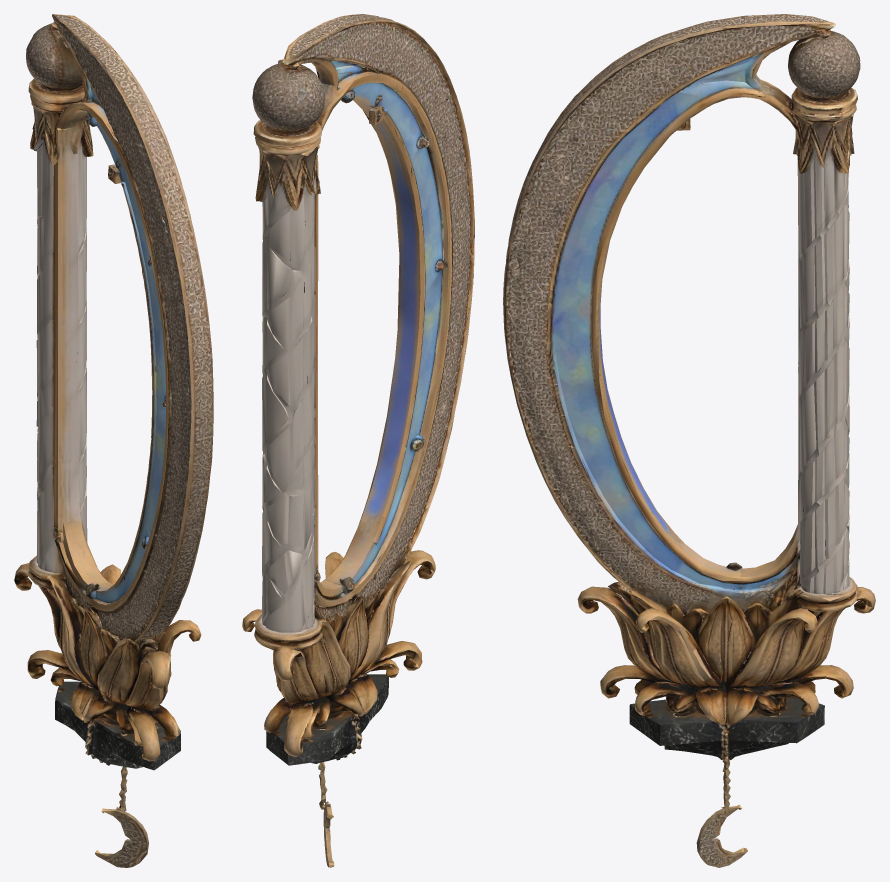
The model's file is SE-06_wall_mirror_game.glb.
3 renders of one model, left to right at view 1: azimuth 30°, elevation 25°; view 2: azimuth 150°, elevation 25°; view 3: azimuth 270°, elevation 25°, orthographic. The views are drawn at different scales.
Visible parts, largest first — view 1: SE-06_wall_mirror; view 2: SE-06_wall_mirror; view 3: SE-06_wall_mirror.
Boxes of the visible parts, x1=… form: SE-06_wall_mirror: x1=14, y1=14, x2=213, y2=867; SE-06_wall_mirror: x1=242, y1=14, x2=474, y2=867; SE-06_wall_mirror: x1=503, y1=14, x2=875, y2=867.
Bounding box in the file's own units: 0.1147 × 1.1 × 0.4416.
1 material, 1 textured.
